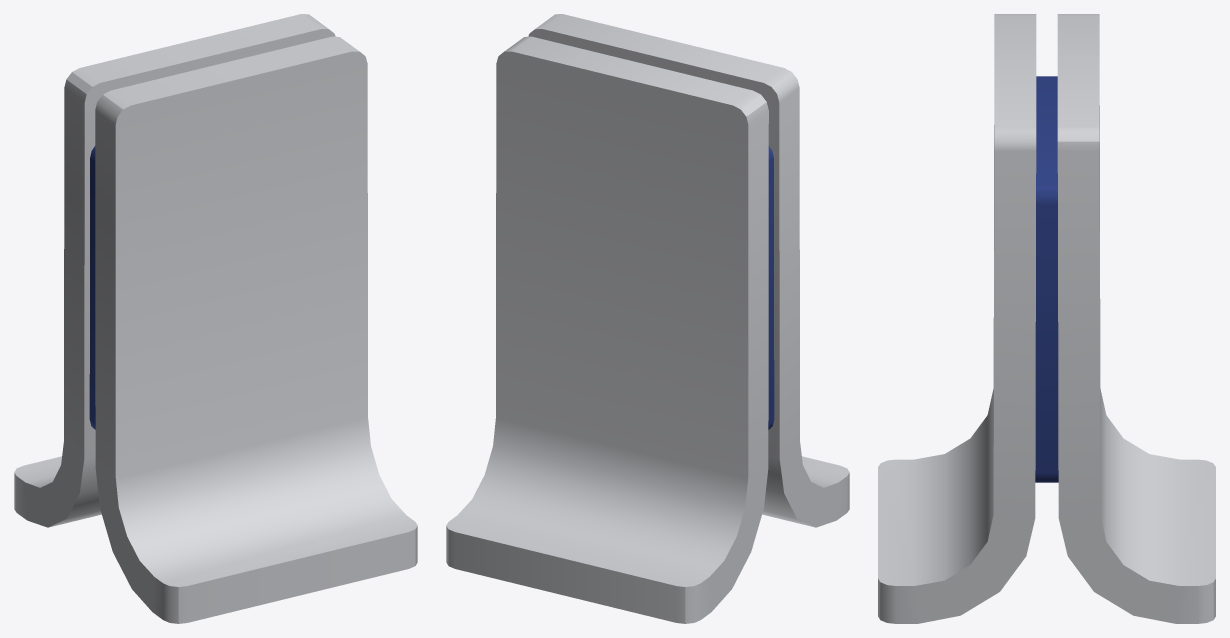
3 views of the same model, side by side, from view 1: azimuth 30°, elevation 25°; view 2: azimuth 150°, elevation 25°; view 3: azimuth 270°, elevation 25° (orthographic). The views are drawn at different scales.
Parts seen in each view (by area): view 1: Facility 3; view 2: Facility 3; view 3: Facility 3.
Boxes of the visible parts, <box> form: Facility 3: <box>14,14,417,623</box>; Facility 3: <box>446,14,849,623</box>; Facility 3: <box>878,14,1215,623</box>.
Bounding box in the file's own units: 0.9488 × 1.71 × 1.07.
